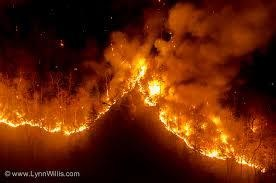fire: (0, 107, 87, 134)
